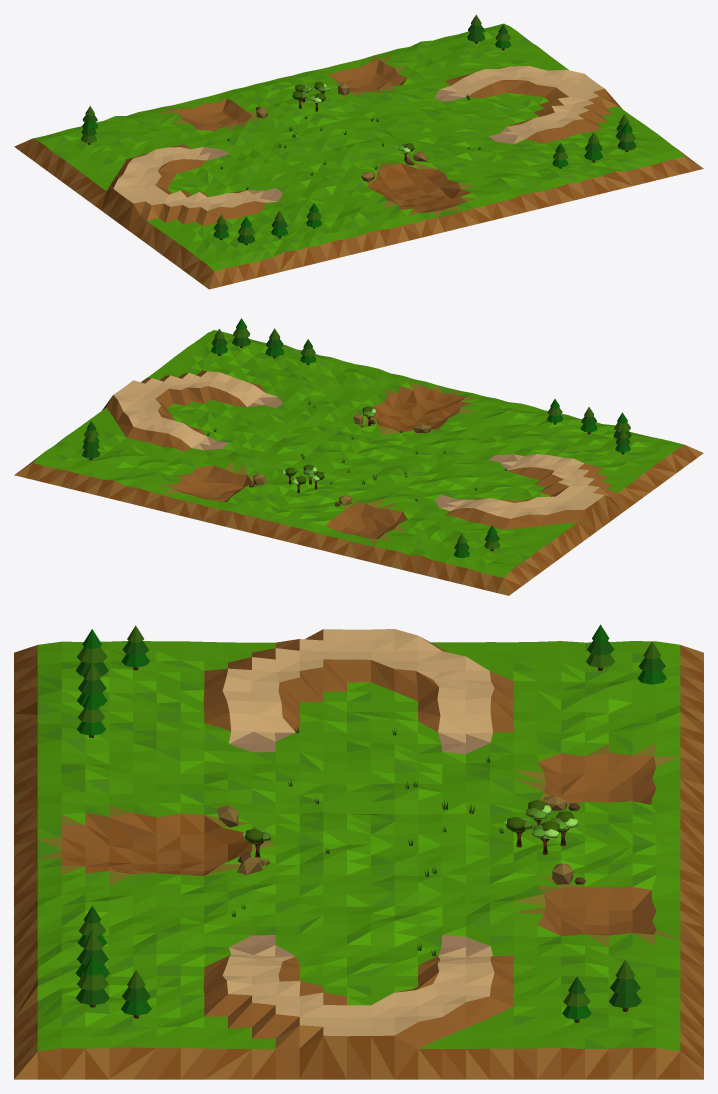
The model's file is Spelplan.fbx.
The picture shows the model from 3 angles, top to bottom: view 1: azimuth 30°, elevation 25°; view 2: azimuth 150°, elevation 25°; view 3: azimuth 270°, elevation 25°; orthographic projection. The views are drawn at different scales.
Parts seen in each view (by area): view 1: Plane; view 2: Plane; view 3: Plane.
Boxes of the visible parts, <box> form: Plane: <box>14,14,703,289</box>; Plane: <box>14,318,703,595</box>; Plane: <box>14,624,703,1079</box>.
Size of the model in its own units: 8198 by 696 by 5600.
